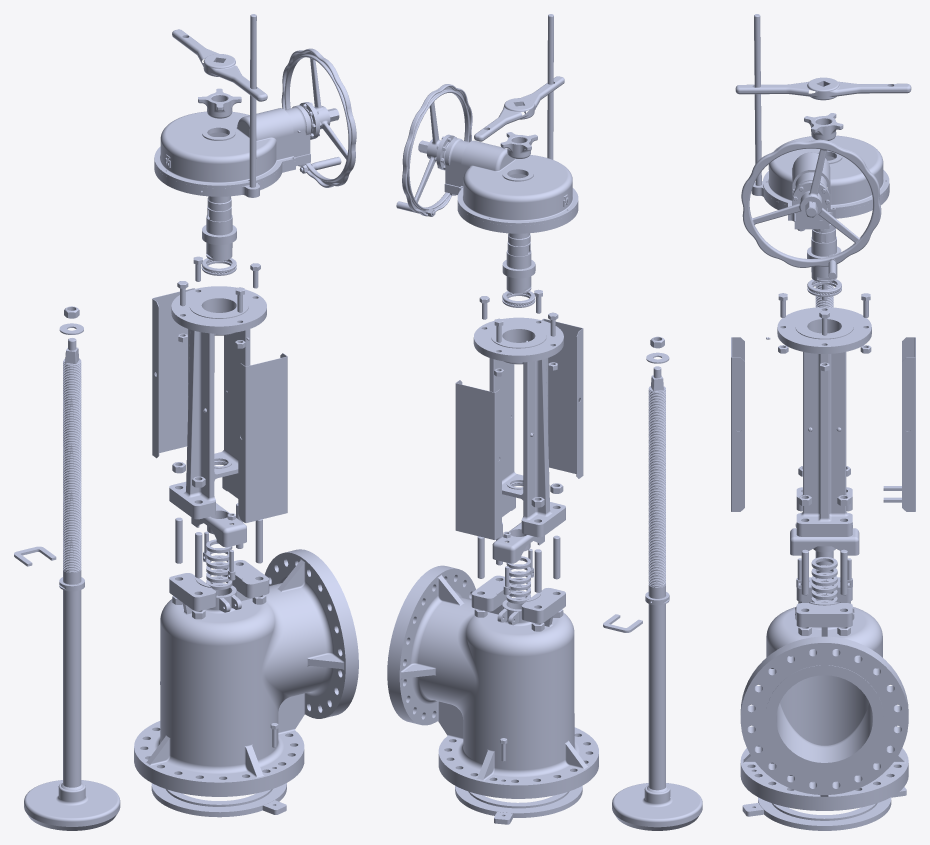
The model's file is 286-14x14x90-Explode.glb.
The picture shows the model from 3 angles, left to right: view 1: azimuth 30°, elevation 25°; view 2: azimuth 150°, elevation 25°; view 3: azimuth 270°, elevation 25°; orthographic projection. The views are drawn at different scales.
Parts seen in each view (by area): view 1: Corpo 1_1.STEP-1, Penta-410_1.STEP-1/3010_1.STEP-1, castelo_1.STEP-1, Haste_1.STEP-1/3019_1.STEP-1, Chapa de proteção_1.STEP-1, MirrorChapa de proteção_1.STEP-1, Haste_1.STEP-1/Disco_1.STEP-1, Sede_1.STEP-1, 3009_1.STEP-1, 3023_1.STEP-1, Preme 18x18_1.STEP-1, 7925_1.STEP-1; view 2: Corpo 1_1.STEP-1, Penta-410_1.STEP-1/3010_1.STEP-1, castelo_1.STEP-1, Haste_1.STEP-1/3019_1.STEP-1, MirrorChapa de proteção_1.STEP-1, Chapa de proteção_1.STEP-1, Haste_1.STEP-1/Disco_1.STEP-1, Sede_1.STEP-1, 3009_1.STEP-1, 3023_1.STEP-1, Preme 18x18_1.STEP-1, 7925_1.STEP-1; view 3: Corpo 1_1.STEP-1, Penta-410_1.STEP-1/3010_1.STEP-1, castelo_1.STEP-1, Sede_1.STEP-1, Chapa de proteção_1.STEP-1, MirrorChapa de proteção_1.STEP-1, 3023_1.STEP-1, Preme 18x18_1.STEP-1, 3009_1.STEP-1, 7925_1.STEP-1, Haste_1.STEP-1/3019_1.STEP-1, Rolamento_1.STEP-1 (+2 smaller).
Boxes of the visible parts, x1,y1,x2,y2 form: Corpo 1_1.STEP-1: [134, 549, 358, 796]; Penta-410_1.STEP-1/3010_1.STEP-1: [154, 14, 356, 197]; castelo_1.STEP-1: [169, 286, 266, 519]; Haste_1.STEP-1/3019_1.STEP-1: [63, 338, 81, 787]; Chapa de proteção_1.STEP-1: [238, 353, 287, 522]; MirrorChapa de proteção_1.STEP-1: [152, 288, 194, 458]; Haste_1.STEP-1/Disco_1.STEP-1: [24, 780, 120, 830]; Sede_1.STEP-1: [151, 783, 286, 817]; 3009_1.STEP-1: [202, 196, 236, 260]; 3023_1.STEP-1: [172, 29, 267, 101]; Preme 18x18_1.STEP-1: [191, 503, 246, 547]; 7925_1.STEP-1: [198, 88, 241, 118]; Corpo 1_1.STEP-1: [387, 565, 598, 798]; Penta-410_1.STEP-1/3010_1.STEP-1: [396, 14, 578, 233]; castelo_1.STEP-1: [473, 317, 565, 537]; Haste_1.STEP-1/3019_1.STEP-1: [648, 366, 665, 790]; MirrorChapa de proteção_1.STEP-1: [455, 380, 501, 539]; Chapa de proteção_1.STEP-1: [541, 318, 583, 478]; Haste_1.STEP-1/Disco_1.STEP-1: [612, 783, 702, 830]; Sede_1.STEP-1: [455, 785, 582, 824]; 3009_1.STEP-1: [502, 233, 535, 293]; 3023_1.STEP-1: [474, 76, 564, 141]; Preme 18x18_1.STEP-1: [492, 522, 544, 563]; 7925_1.STEP-1: [500, 132, 537, 158]; Corpo 1_1.STEP-1: [740, 577, 908, 810]; Penta-410_1.STEP-1/3010_1.STEP-1: [741, 14, 889, 278]; castelo_1.STEP-1: [777, 307, 871, 536]; Sede_1.STEP-1: [742, 787, 906, 830]; Chapa de proteção_1.STEP-1: [731, 337, 744, 511]; MirrorChapa de proteção_1.STEP-1: [902, 337, 915, 511]; 3023_1.STEP-1: [735, 77, 911, 100]; Preme 18x18_1.STEP-1: [790, 528, 859, 555]; 3009_1.STEP-1: [807, 223, 841, 282]; 7925_1.STEP-1: [804, 113, 843, 140]; Haste_1.STEP-1/3019_1.STEP-1: [815, 284, 833, 573]; Rolamento_1.STEP-1: [807, 279, 841, 296].
Size of the model in its own units: 1.24 by 3.03 by 0.6428.
